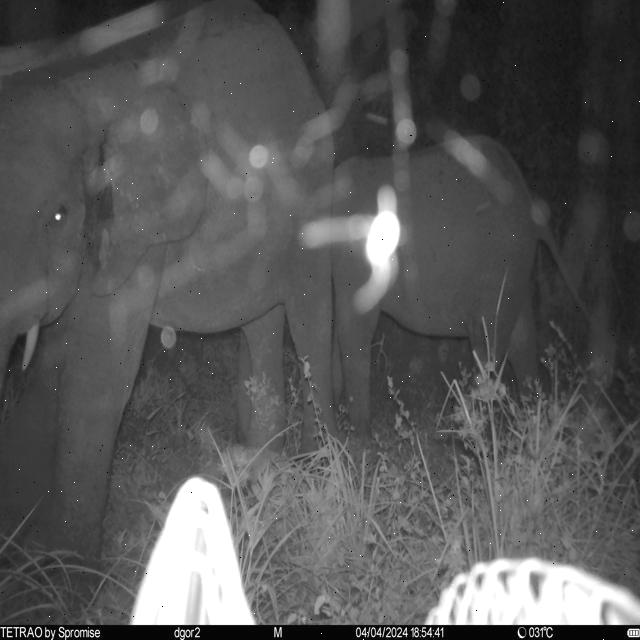calf: (338, 134, 606, 450)
ear: (64, 67, 211, 303)
elephant: (0, 1, 338, 610)
tusk: (19, 323, 42, 378)
